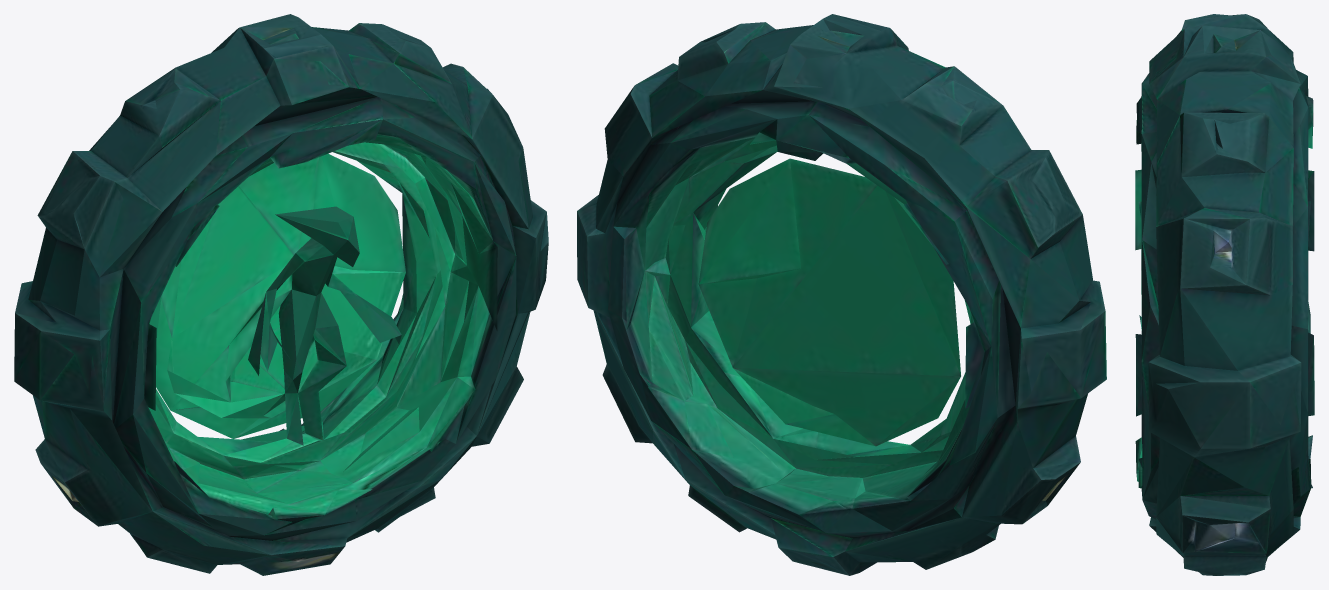
Rendered from egg.glb.
3 views of the same model, side by side, from view 1: azimuth 30°, elevation 25°; view 2: azimuth 150°, elevation 25°; view 3: azimuth 270°, elevation 25° (orthographic). The views are drawn at different scales.
Bounding box in the file's own units: 1.88 × 1.87 × 0.5962.
Materials: 1 (1 with a texture image).
